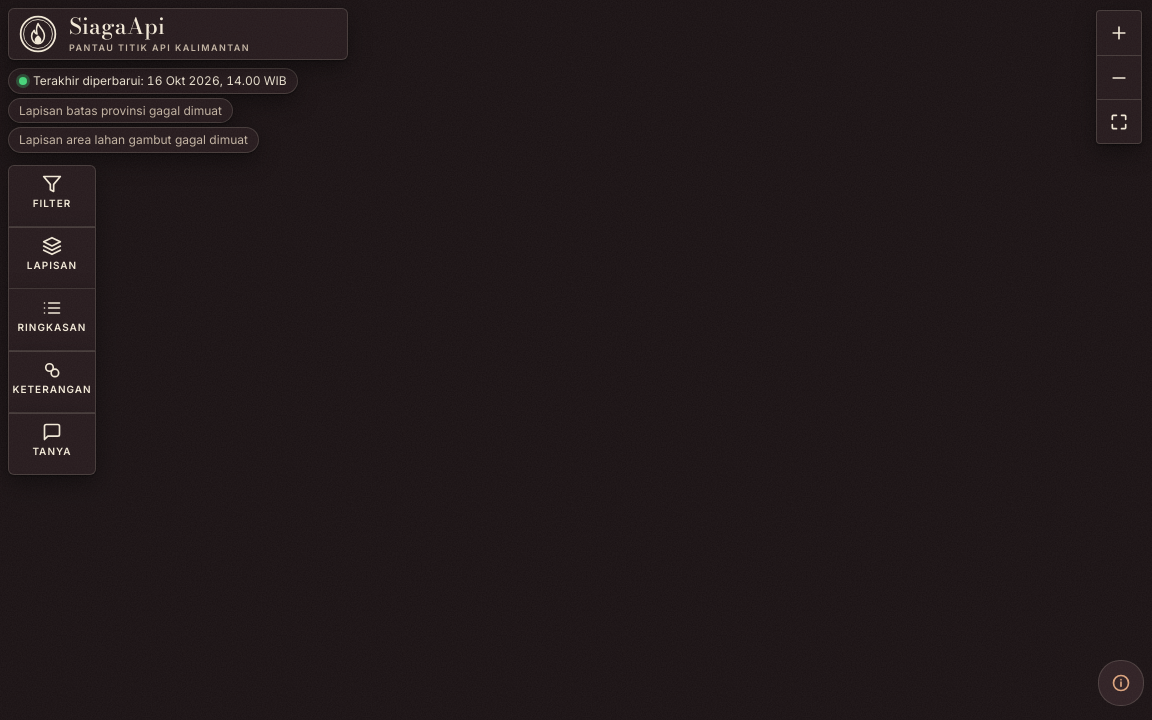
on a phone opening the layers panel shows its controls and closes the others
Click the button "Filter". click: (52, 196)
box: x1=9 y1=174 x2=95 y2=218
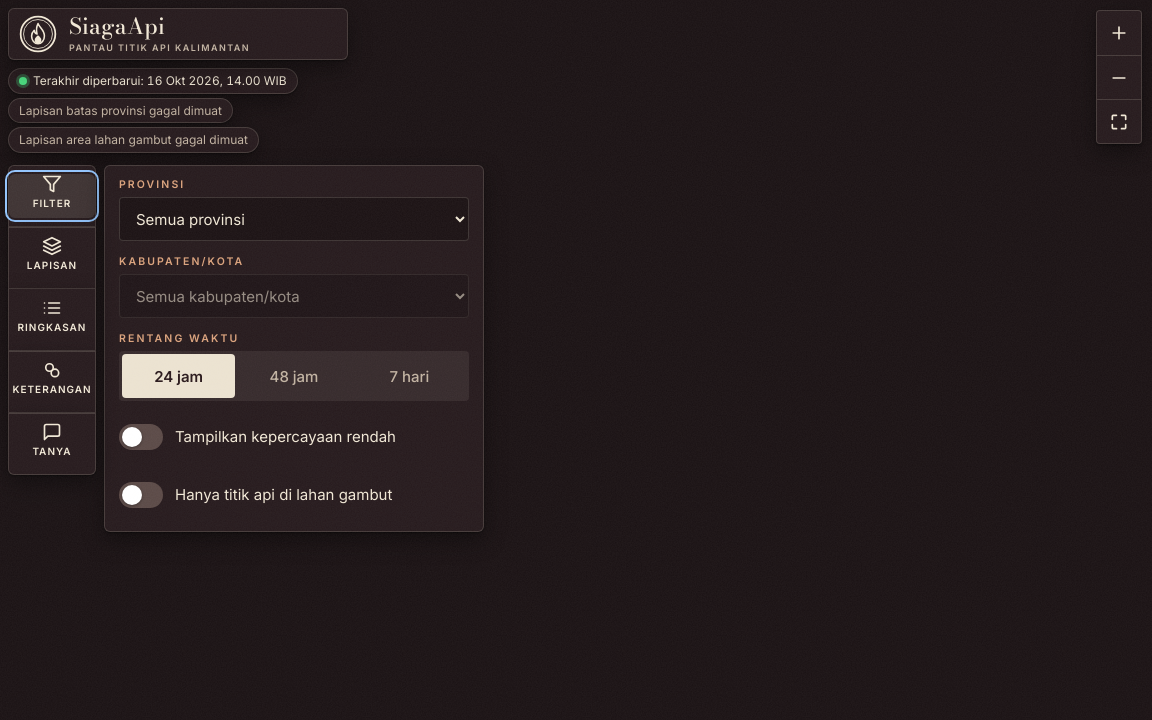
Expected: the dropdown labelled "Provinsi" is shown, x1=119 y1=197 x2=469 y2=241
Click the button "Lapisan". click: (52, 258)
box: x1=9 y1=236 x2=95 y2=280
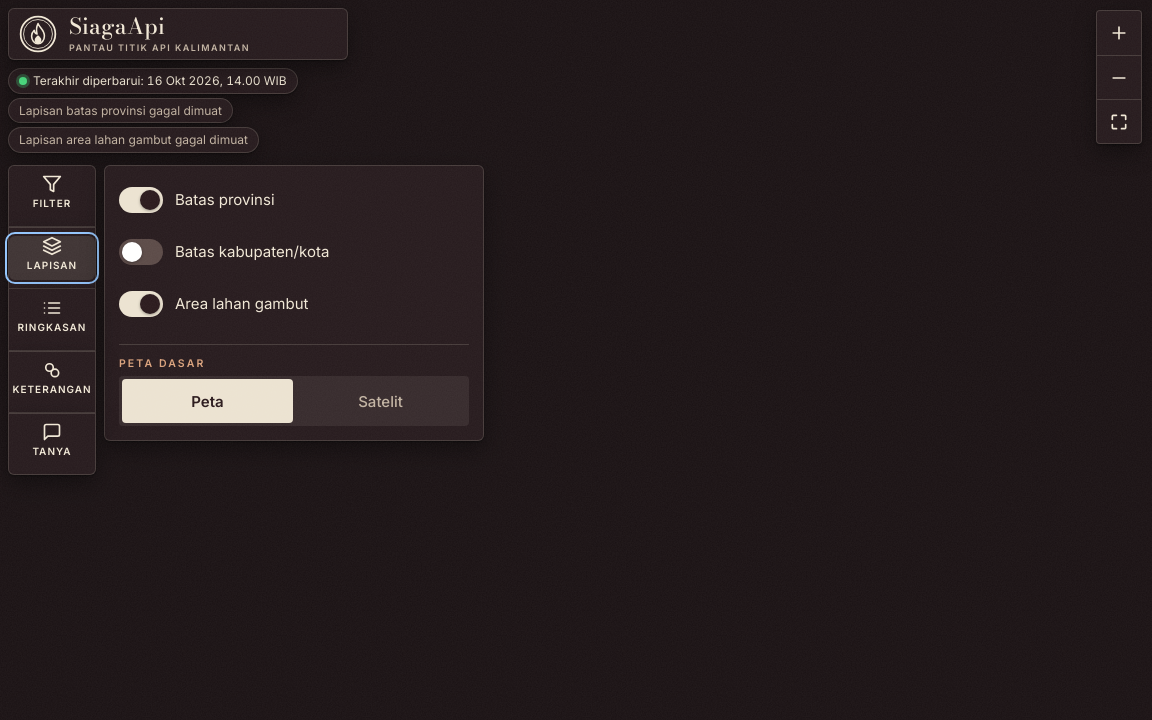
Expected: the checkbox labelled "Area lahan gambut" is shown, x1=119 y1=291 x2=308 y2=317
Expected: the radio button labelled "Satelit" is shown, x1=358 y1=392 x2=403 y2=410
Expected: the button "Filter" is collapsed, x1=9 y1=174 x2=95 y2=218
